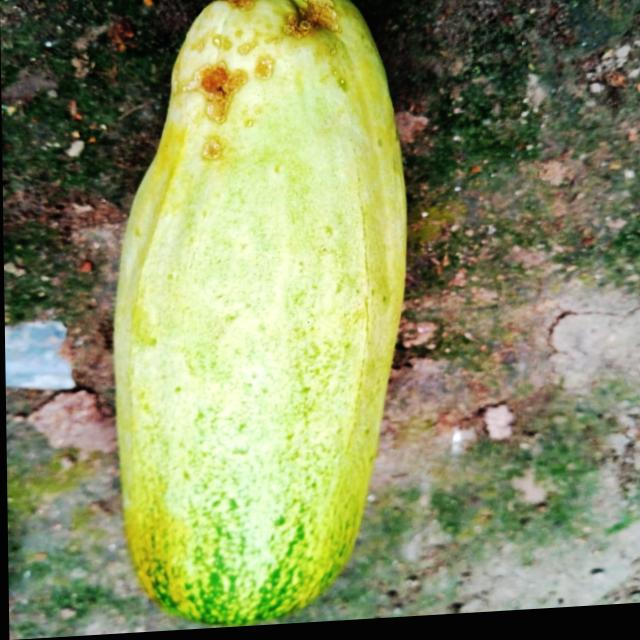Belly-Rot: (177, 0, 361, 170)
